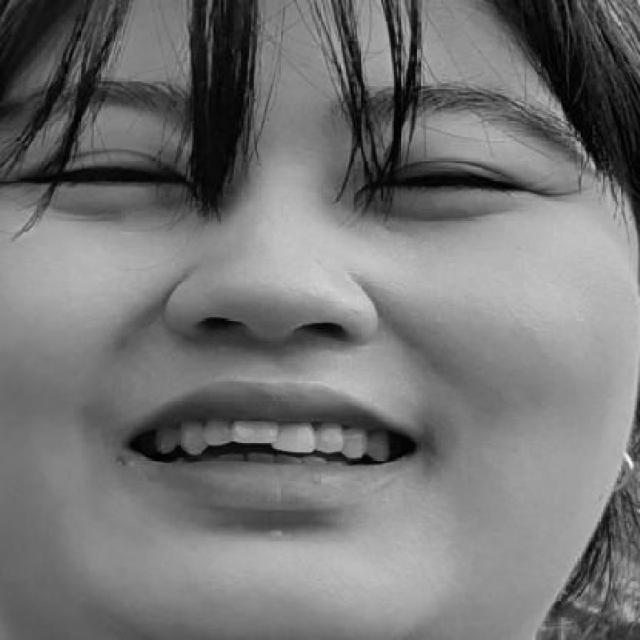happy: (0, 72, 594, 545)
